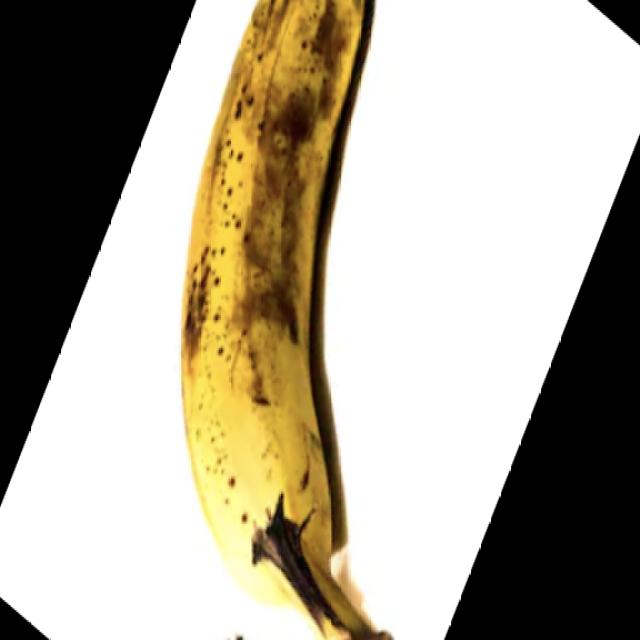overripe: (178, 0, 374, 640)
